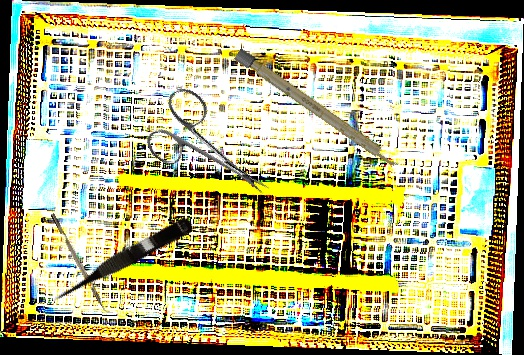Chopper: (50, 210, 113, 317)
Iris Scissors: (136, 82, 290, 221)
Micro Scissor: (46, 212, 196, 308)
Scalpel Handle: (233, 48, 402, 171)
